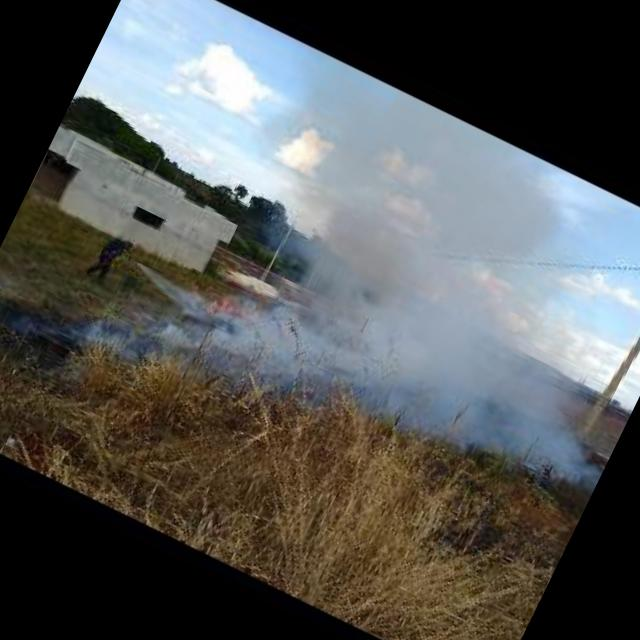fire: (198, 277, 258, 323)
smoke: (208, 79, 640, 525), (71, 276, 221, 402)
